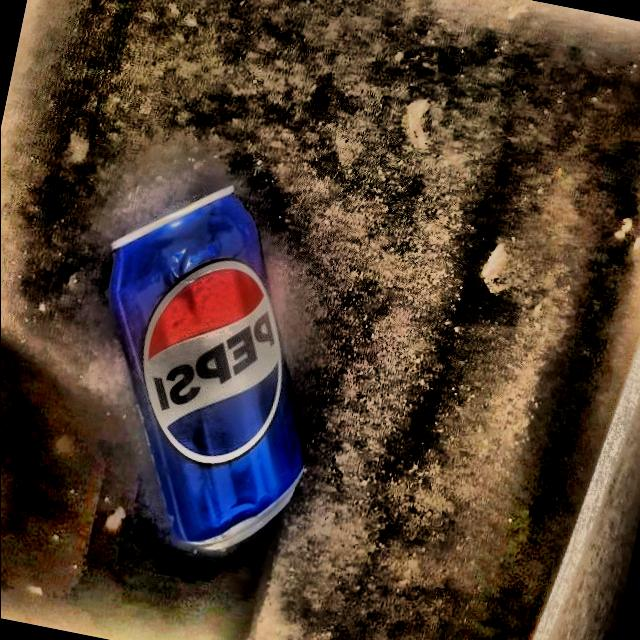pepsi-can: (111, 186, 311, 555)
